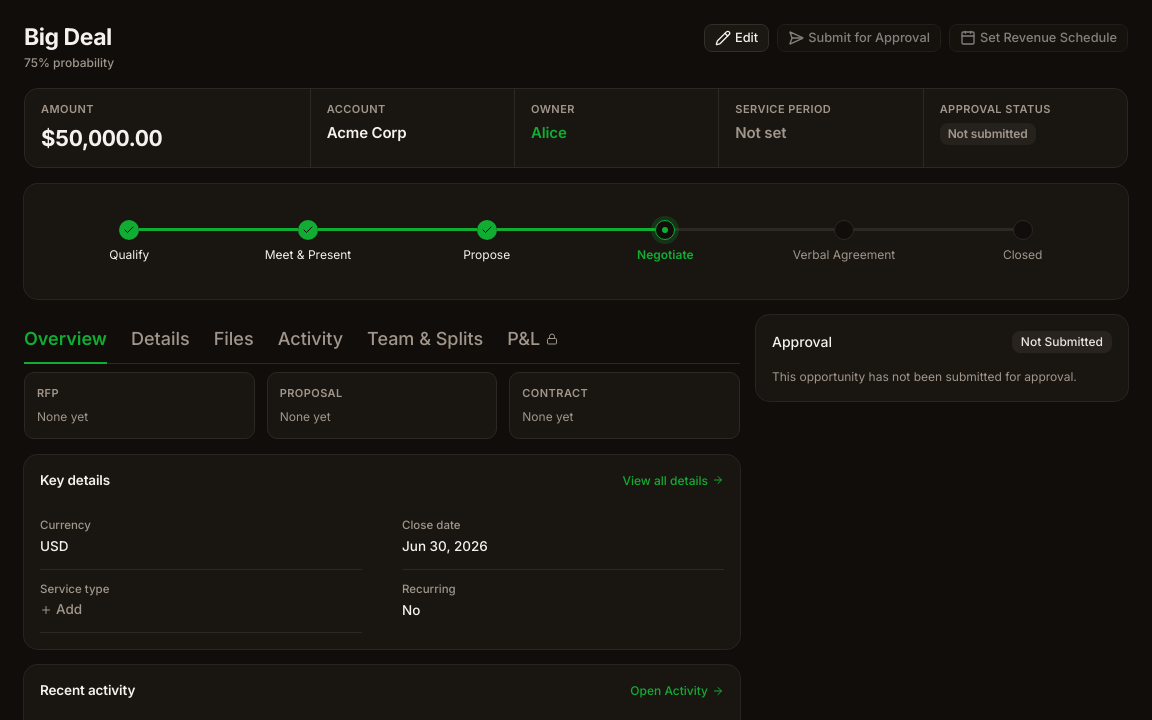
Test: OpportunityDetailWrapper › facet tabs › locks the P&L tab until Verbal Agreement
The image size is (1152, 720).
Click the tab "P&L": [533, 340] box top-left (507, 315), bottom-right (558, 364)
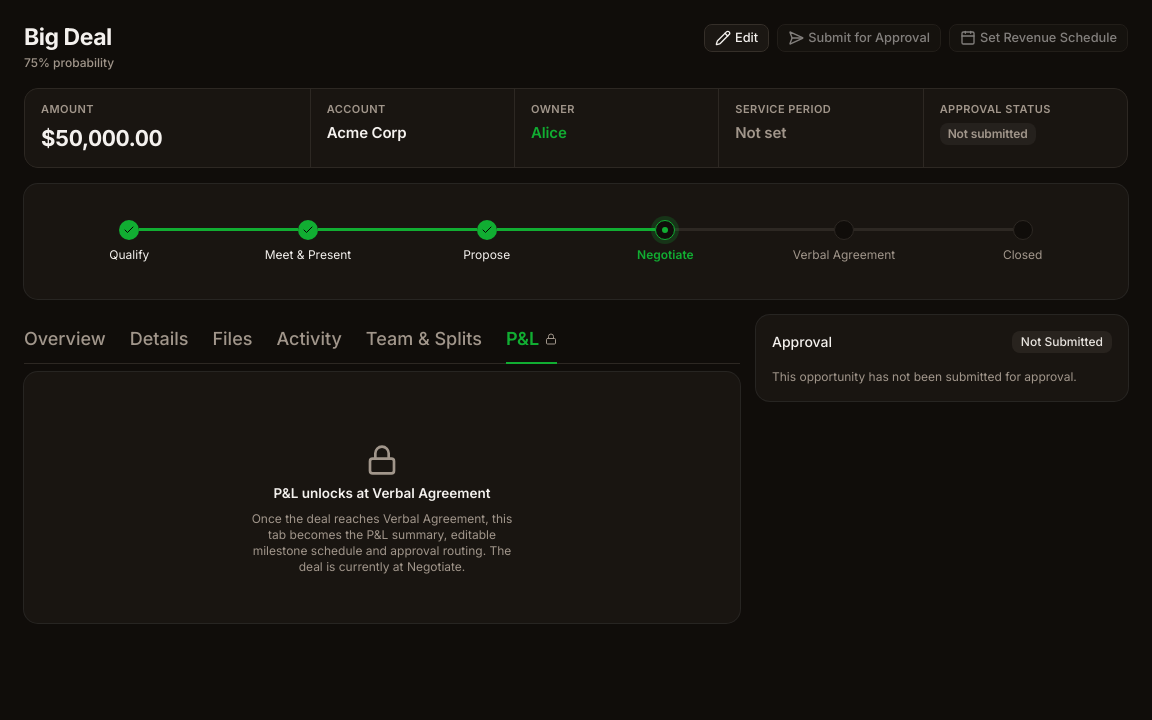
Expected: the text "P&L unlocks at Verbal Agreement" is shown, top-left (274, 484), bottom-right (490, 503)
Expected: the text "currently at Negotiate" is shown, top-left (252, 511), bottom-right (512, 574)
